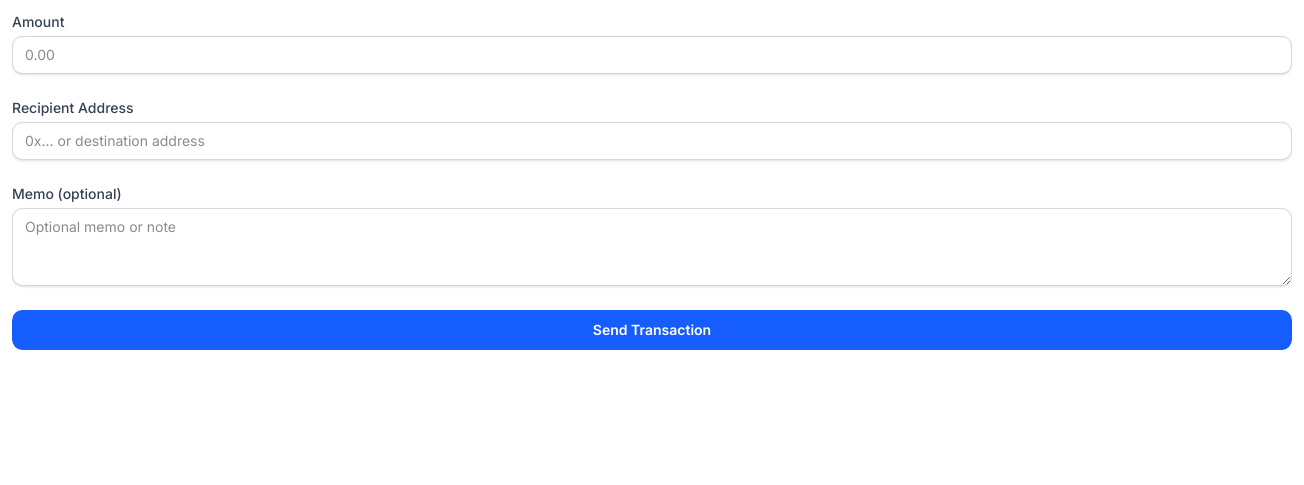
Test: TransactionForm › shows address validation error on blur
In the field labelled "Recipient Address": (652, 141) x1=12 y1=122 x2=1292 y2=160, type "short"
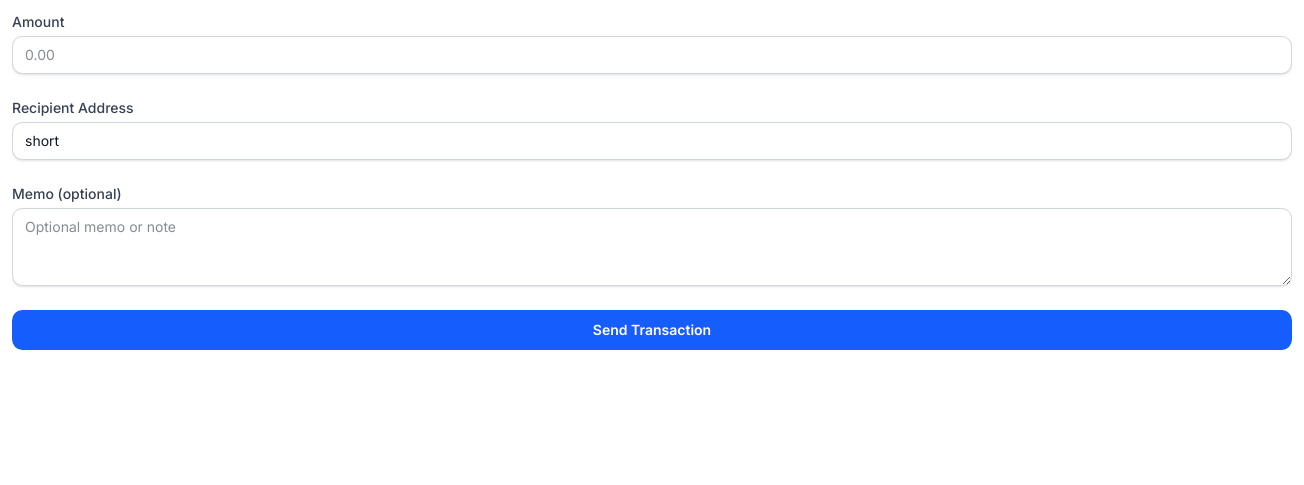
Leave the field labelled "Recipient Address", box x1=12 y1=122 x2=1292 y2=160
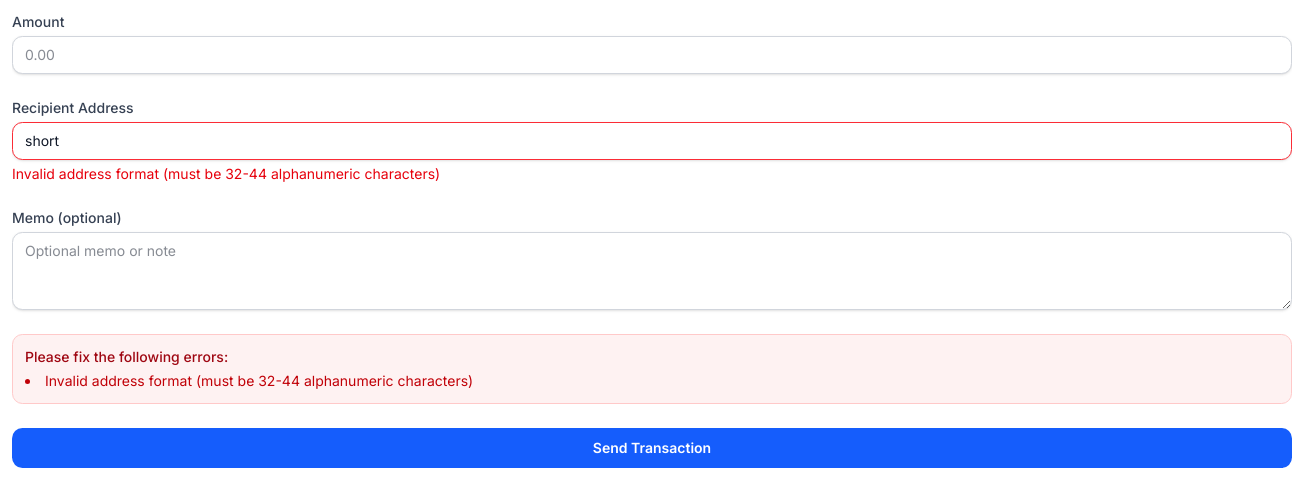
Now the text "Invalid address format (must be 32-44 alphanumeric characters)" is shown 2 times, box x1=12 y1=165 x2=440 y2=182; x1=45 y1=372 x2=473 y2=389
